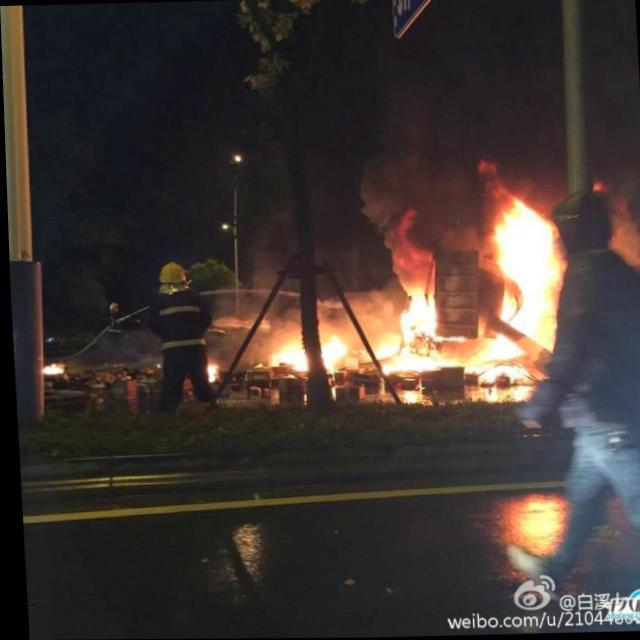fire: (253, 184, 574, 421)
